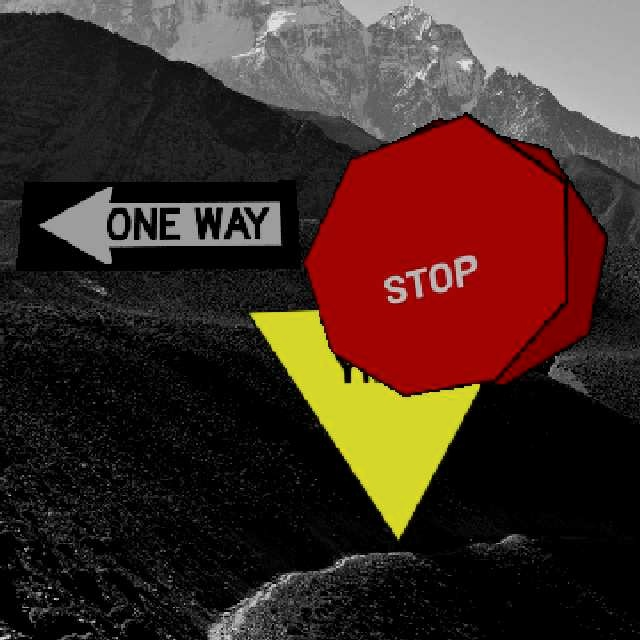ONE_WAY_ left: (15, 179, 299, 270)
STOP: (323, 116, 607, 386), (301, 111, 567, 395)
YIELD: (244, 298, 528, 543)
